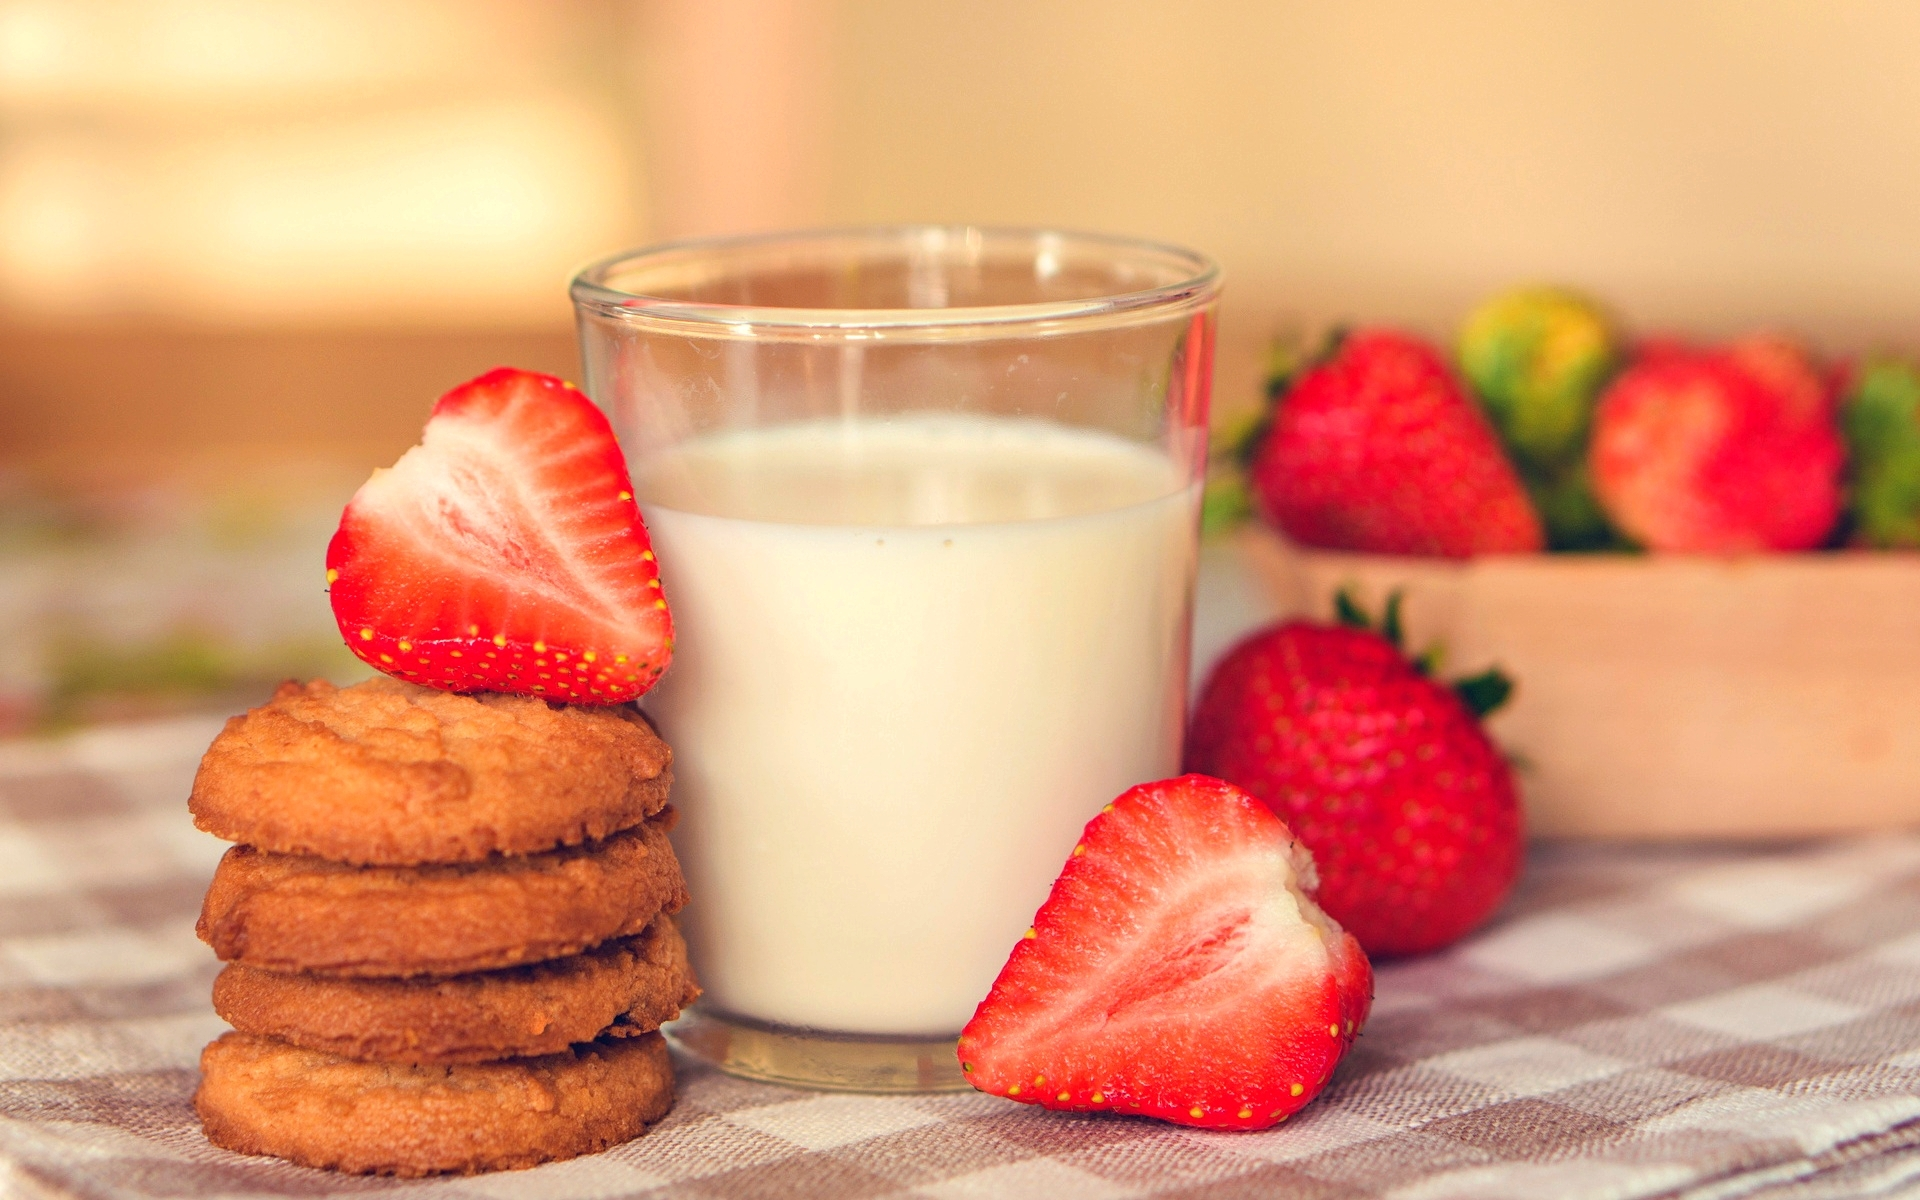glass of milk: (640, 235, 1104, 1035)
